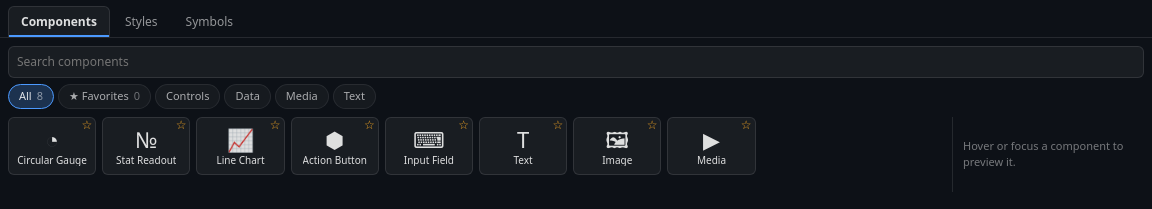
Library workspace shell (CD-404) › clicking a tab switches panels
The width and height of the screenshot is (1152, 209).
Click the tab "Symbols": (209, 22) [173, 6, 246, 37]
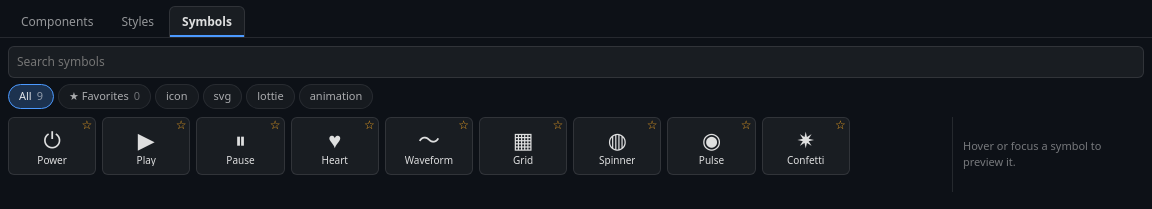
Expected: the element with test id "library-symbols" is shown
Expected: the element with test id "library-components" is gone
